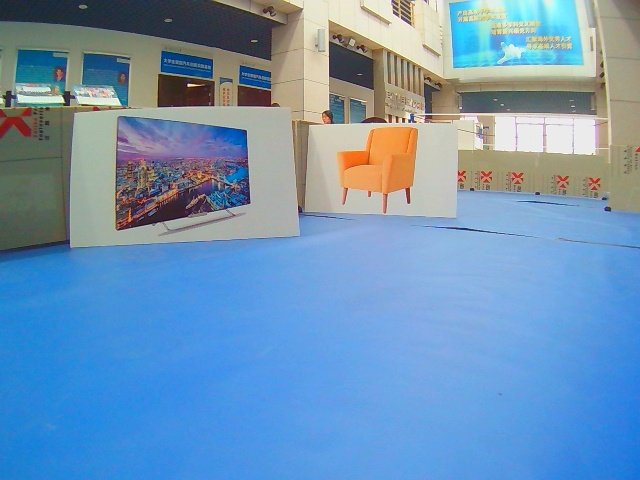sofa: (304, 123, 459, 218)
tv: (69, 106, 301, 248)
